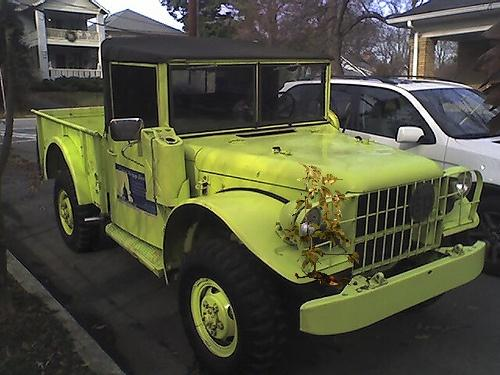tampered: (285, 163, 359, 289)
